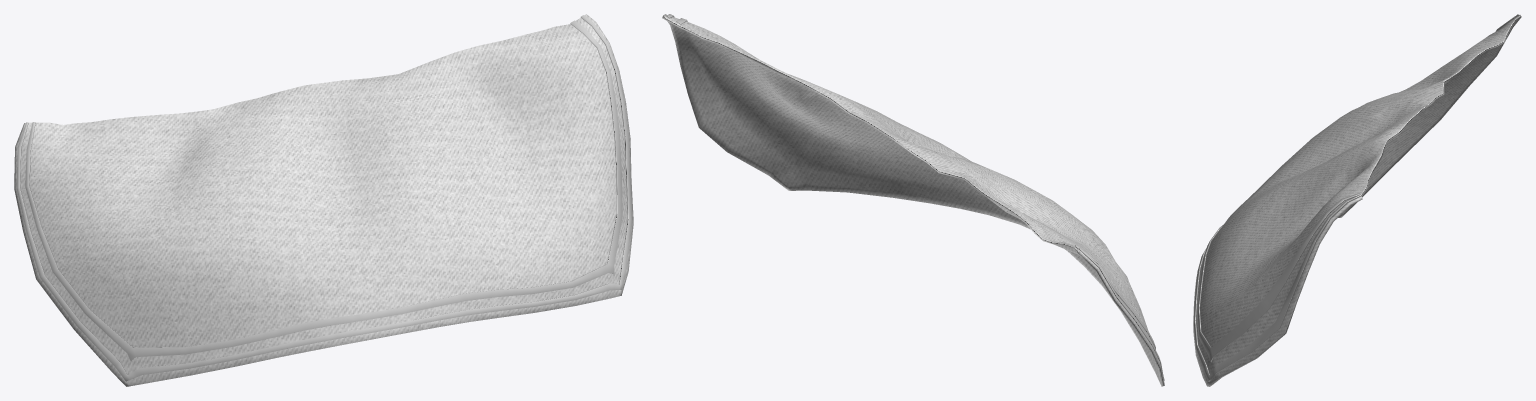
Rendered from Jac_Pocket_LEFT_V1.glb.
The picture shows the model from 3 angles, left to right: view 1: azimuth 30°, elevation 25°; view 2: azimuth 150°, elevation 25°; view 3: azimuth 270°, elevation 25°; orthographic projection. The views are drawn at different scales.
Parts seen in each view (by area): view 1: Jac_Pocket_LEFT_V11, Rope1; view 2: Jac_Pocket_LEFT_V11, Rope1; view 3: Jac_Pocket_LEFT_V11, Rope1.
Part boxes in pixels (left/top/right/bottom): Jac_Pocket_LEFT_V11: left=14, top=14, right=633, bottom=386; Rope1: left=16, top=15, right=632, bottom=381; Jac_Pocket_LEFT_V11: left=662, top=14, right=1164, bottom=386; Rope1: left=666, top=14, right=1164, bottom=380; Jac_Pocket_LEFT_V11: left=1193, top=15, right=1521, bottom=386; Rope1: left=1193, top=14, right=1518, bottom=381.
Size of the model in its own units: 0.21 by 0.0964 by 0.1161.
Materials: 2 (2 with a texture image).
